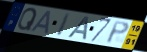7: (89, 17, 114, 43)
A: (66, 15, 90, 41), (30, 10, 52, 35)
I: (55, 12, 72, 37)
P: (105, 20, 130, 45)
Q: (17, 7, 38, 31)
